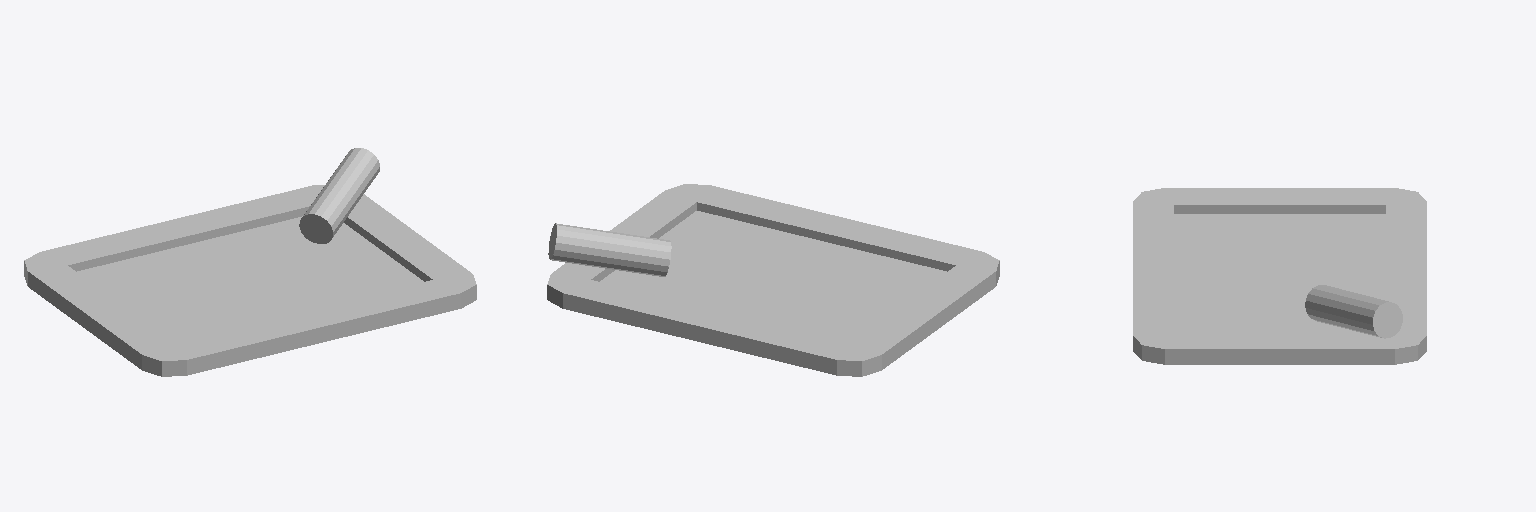
Rendered from Blackboard.obj.
3 renders of one model, left to right at view 1: azimuth 30°, elevation 25°; view 2: azimuth 150°, elevation 25°; view 3: azimuth 270°, elevation 25°, orthographic.
Parts seen in each view (by area): view 1: Message_Board; view 2: Message_Board; view 3: Message_Board.
Part boxes in pixels (x1,y1,x2,y2): Message_Board: (24, 148, 476, 376); Message_Board: (547, 184, 999, 376); Message_Board: (1133, 188, 1426, 364).
Bounding box in the file's own units: 142 × 24.49 × 106.